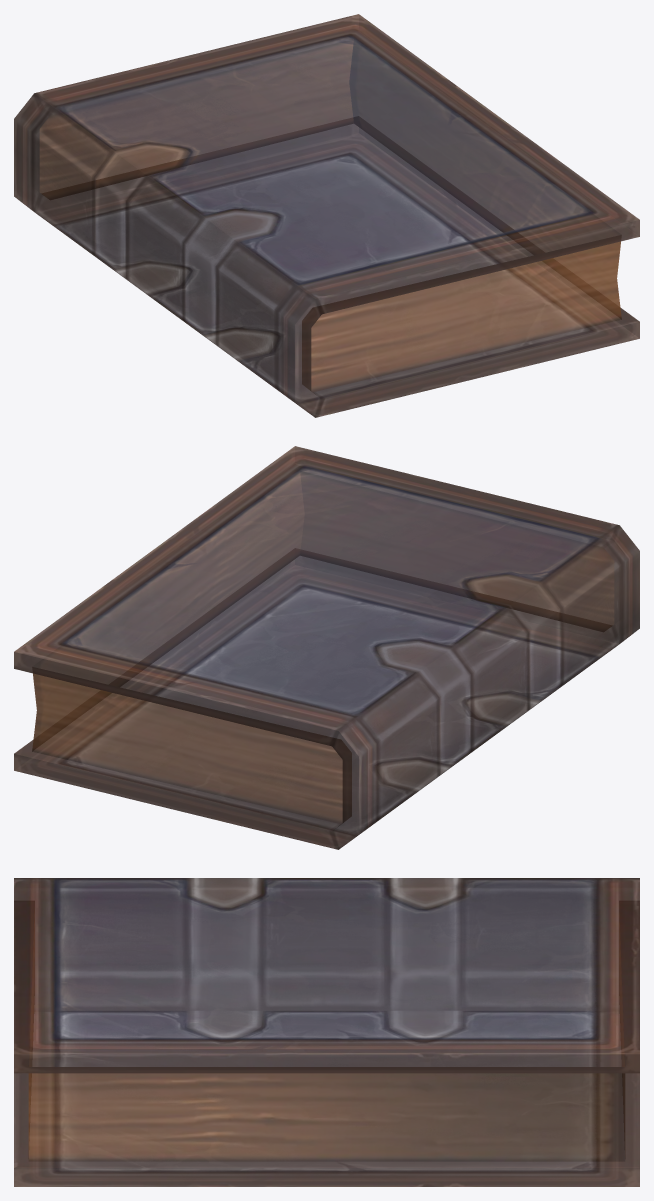
3 renders of one model, top to bottom at view 1: azimuth 30°, elevation 25°; view 2: azimuth 150°, elevation 25°; view 3: azimuth 270°, elevation 25°, orthographic. The views are drawn at different scales.
Parts seen in each view (by area): view 1: SM_Book_01_LOD0; view 2: SM_Book_01_LOD0; view 3: SM_Book_01_LOD0.
Part boxes in pixels (<box>): SM_Book_01_LOD0: <box>14,14,639,417</box>; SM_Book_01_LOD0: <box>14,446,639,849</box>; SM_Book_01_LOD0: <box>14,878,639,1186</box>.
Bounding box in the file's own units: 0.2709 × 0.0893 × 0.3825.
Materials: 1 (1 with a texture image).
